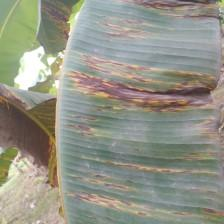sigatoka: (56, 0, 224, 224), (0, 80, 57, 187), (38, 0, 78, 51)
